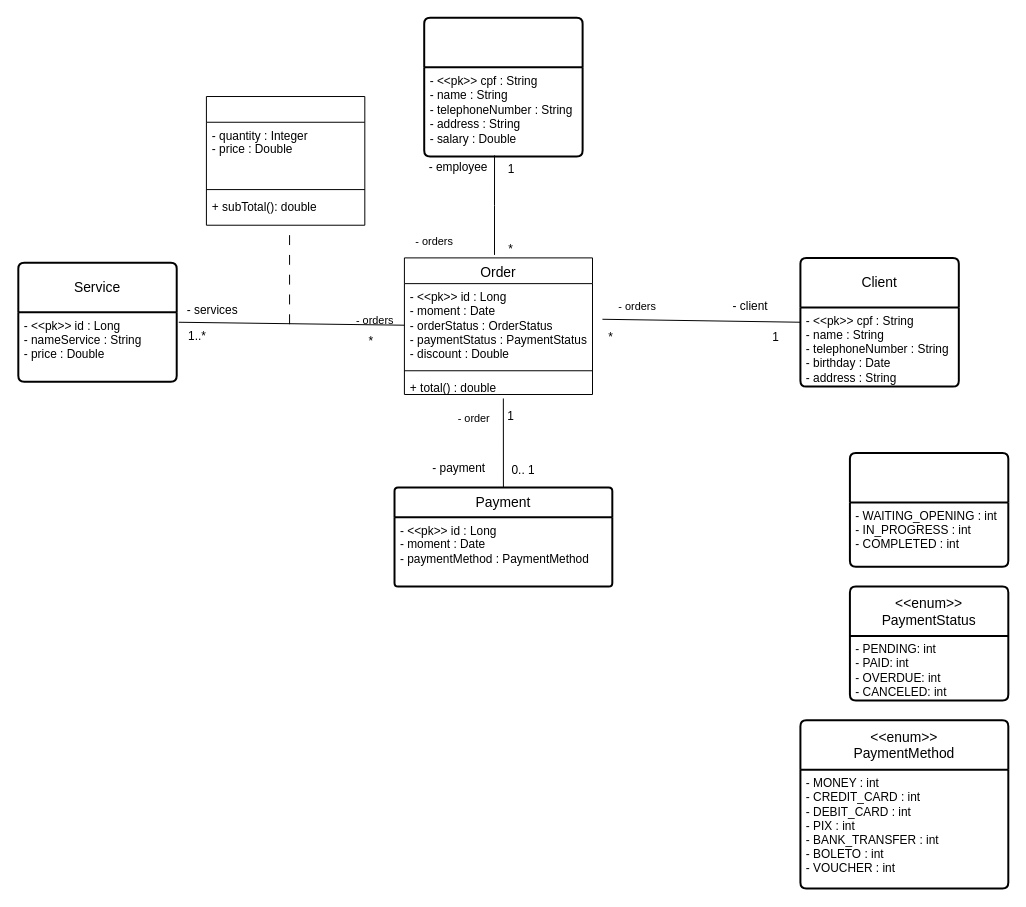
Image size: 1026x907. Some labels were removed from this diagram. Here are the shapes that lost their labels. From the top down, the box of each, then its label:
(423, 16, 583, 157): Employee
(205, 96, 365, 225): OrderItem
(848, 451, 1009, 567): <<enum>> OrderStatus
